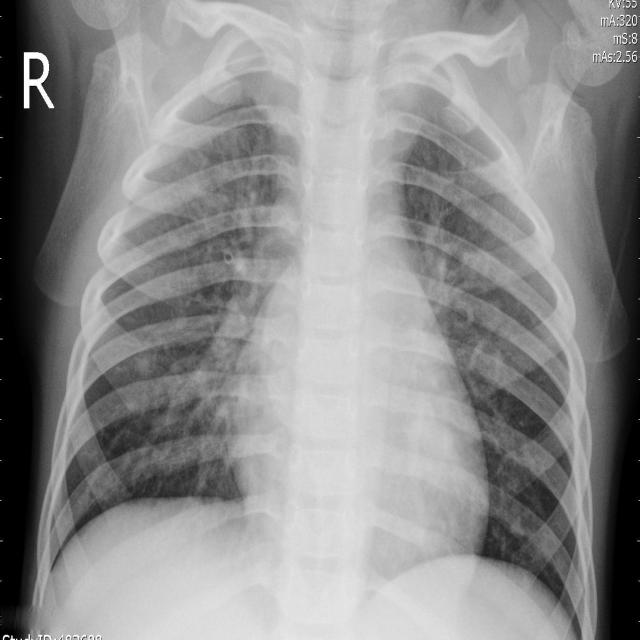low-pneumonia: (184, 159, 297, 461), (409, 230, 516, 405)
